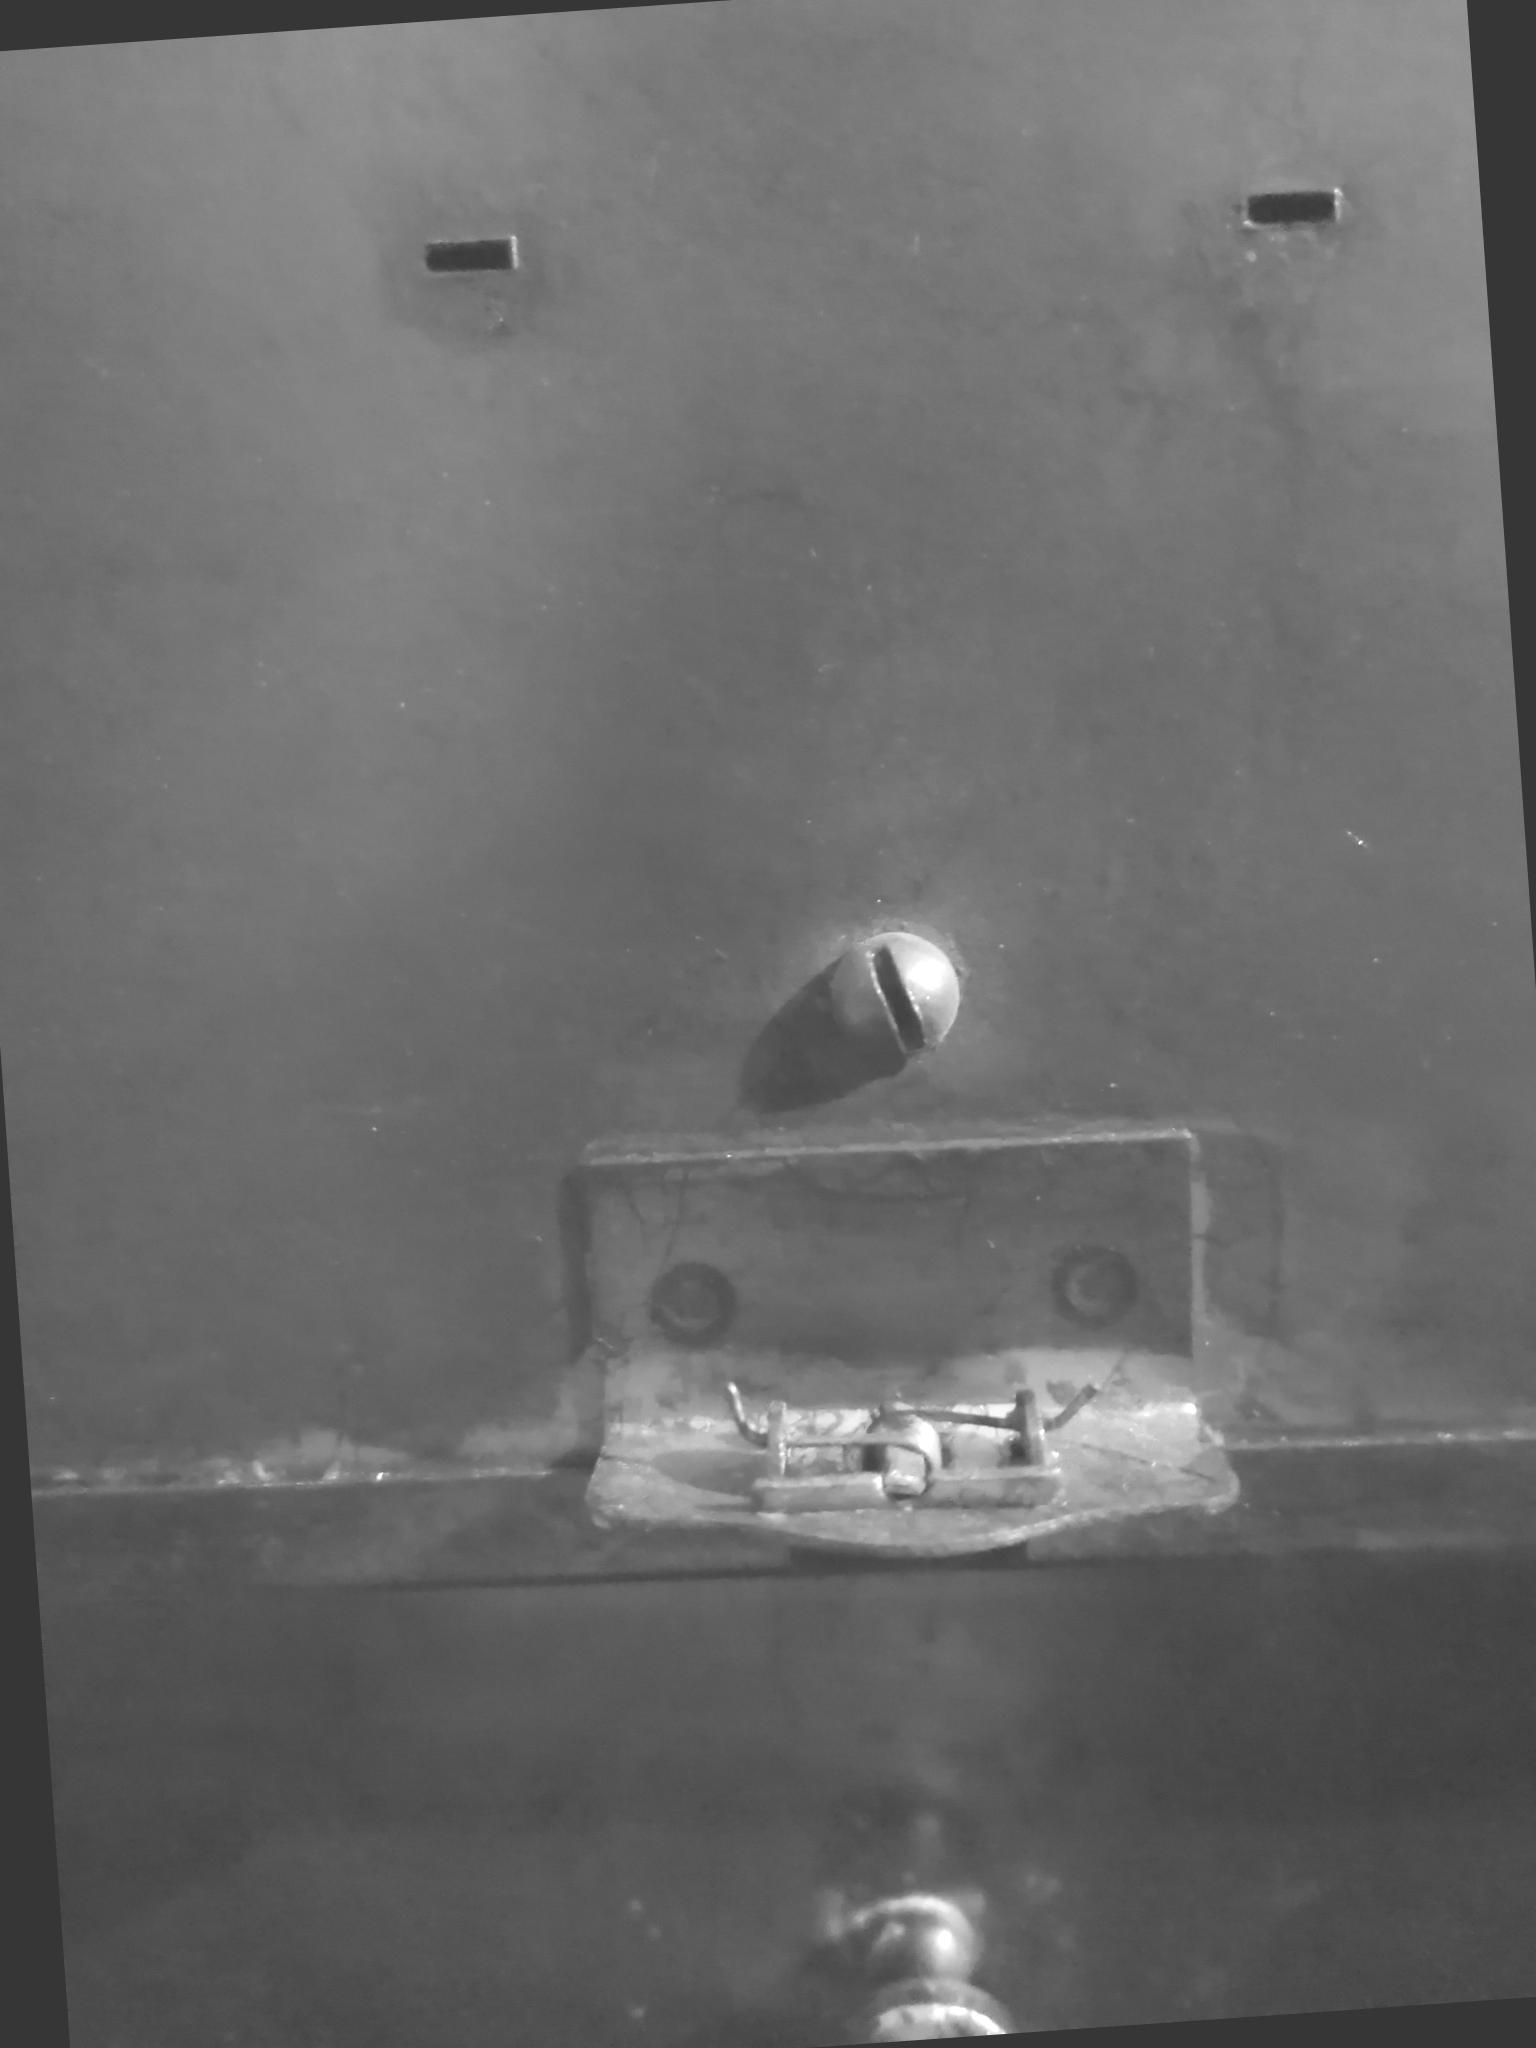screw: (813, 914, 981, 1072)
